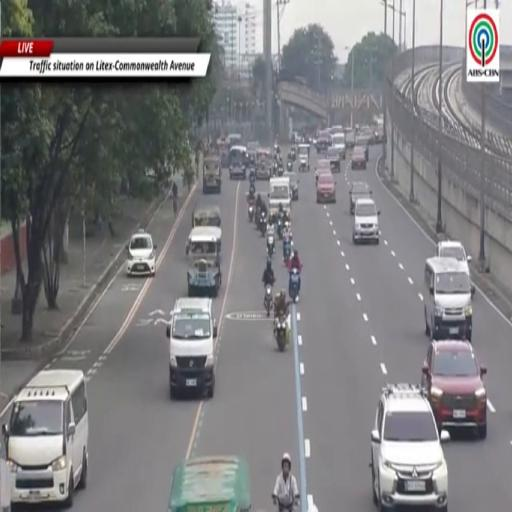car: (370, 383, 449, 511), (422, 340, 486, 439), (126, 230, 156, 277), (352, 198, 380, 244), (436, 240, 471, 276), (349, 182, 372, 214), (316, 173, 335, 202), (357, 133, 372, 162), (331, 130, 345, 159), (285, 172, 299, 200), (351, 147, 366, 169), (327, 147, 340, 172), (316, 131, 330, 153), (315, 159, 330, 179)
jeepney: (168, 456, 250, 511), (188, 227, 221, 297), (203, 156, 221, 194), (192, 205, 221, 228), (229, 146, 247, 180), (256, 148, 272, 179), (218, 138, 229, 168), (298, 144, 309, 171), (228, 134, 242, 148)
motorcycle: (274, 315, 287, 352), (275, 494, 299, 511), (289, 268, 300, 302), (264, 284, 273, 317), (283, 240, 293, 265), (267, 235, 275, 258), (259, 212, 266, 236), (276, 217, 283, 241), (255, 206, 261, 230), (248, 202, 254, 221), (249, 168, 255, 185), (277, 165, 284, 177), (249, 183, 255, 196), (272, 163, 277, 177), (299, 162, 306, 171), (291, 150, 296, 161), (288, 160, 292, 171)
